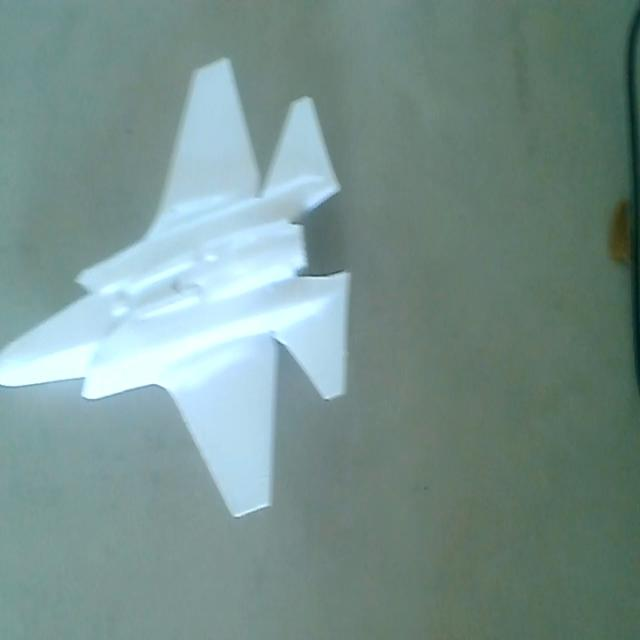Jet: (0, 48, 354, 529)
